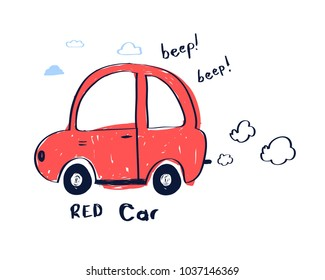car: (32, 60, 212, 197)
